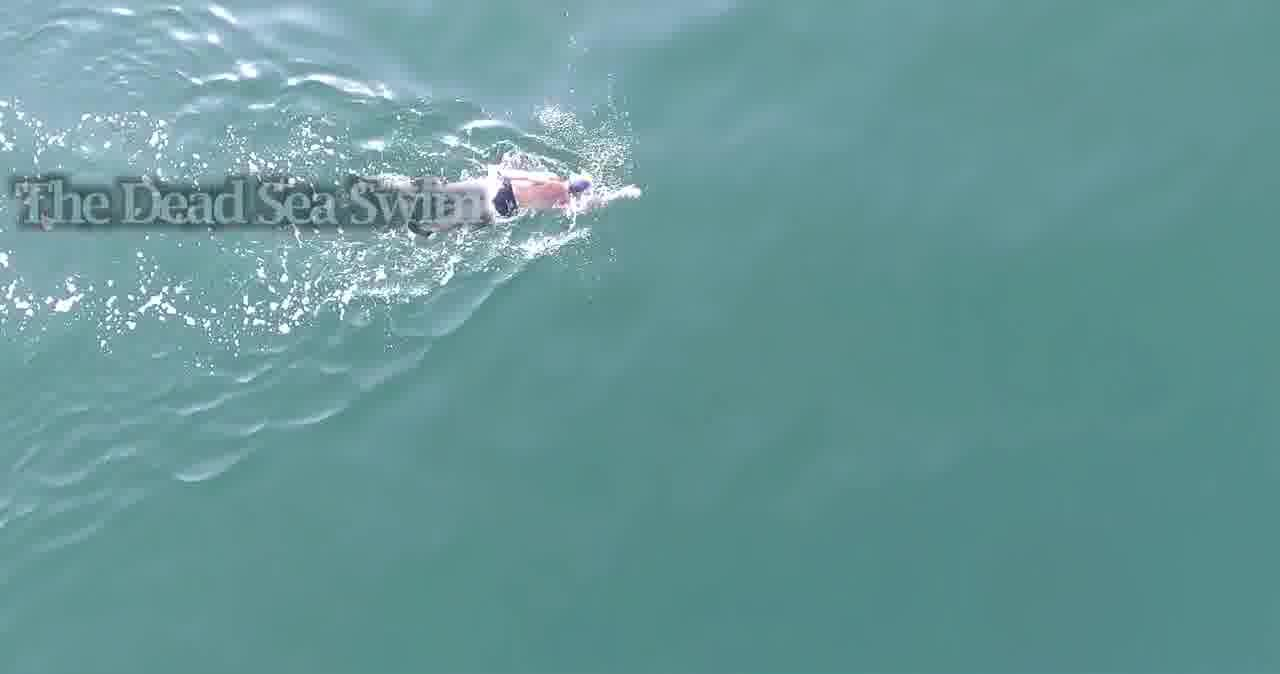human: (480, 165, 649, 221)
